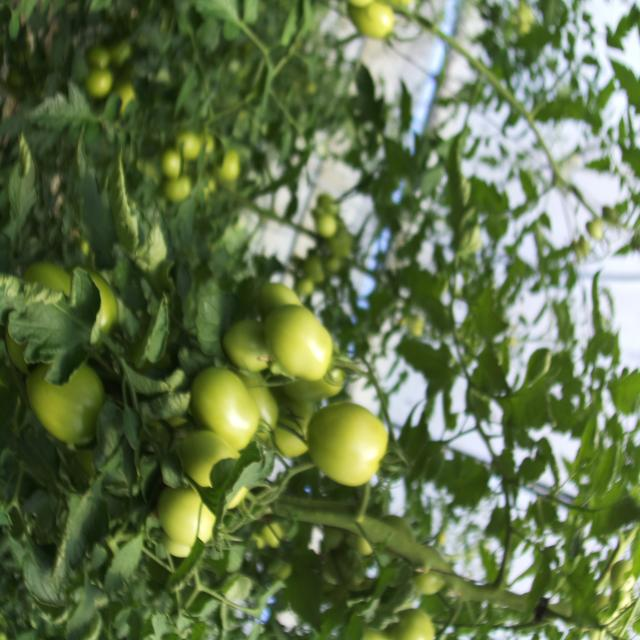yesil: (180, 293, 379, 497)
